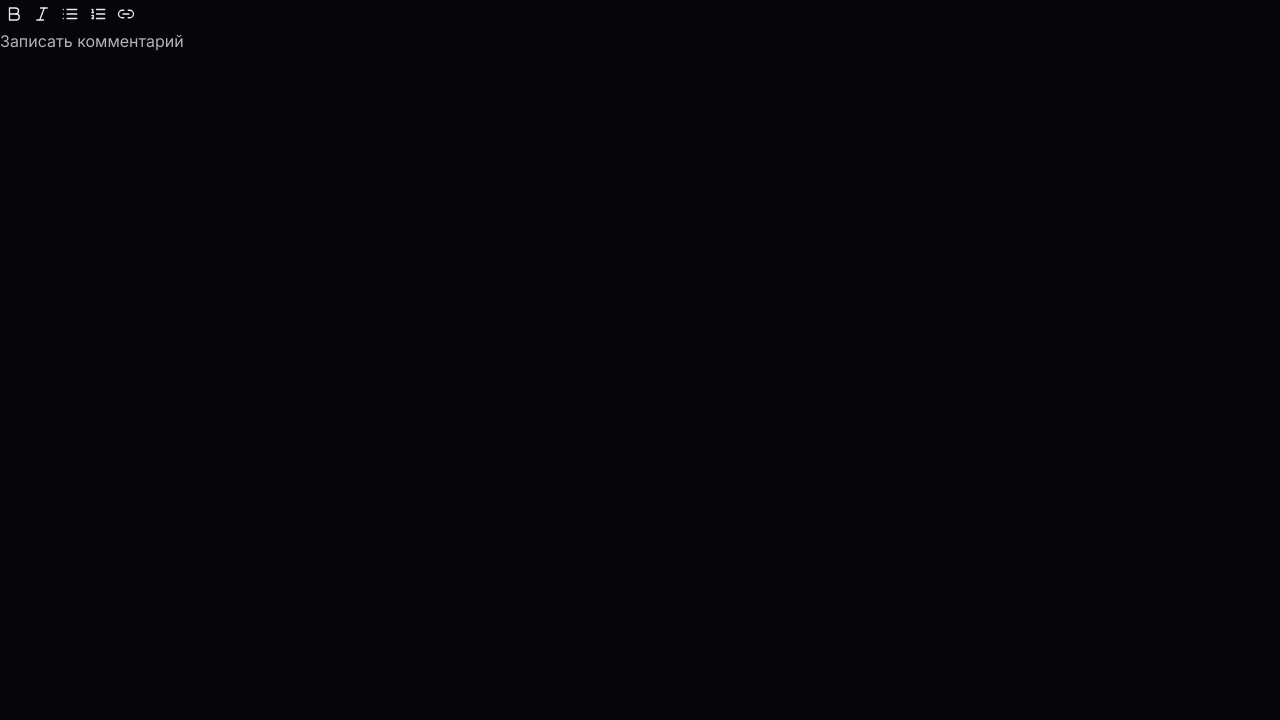
Test: В буфере не адрес — окно НАШЕ, не браузерное › чужой браузер не дал прочитать буфер — тоже наше окно, не тупик
Step 1. Click the button named "Ссылка" → (126, 14), box [112,0,140,28]
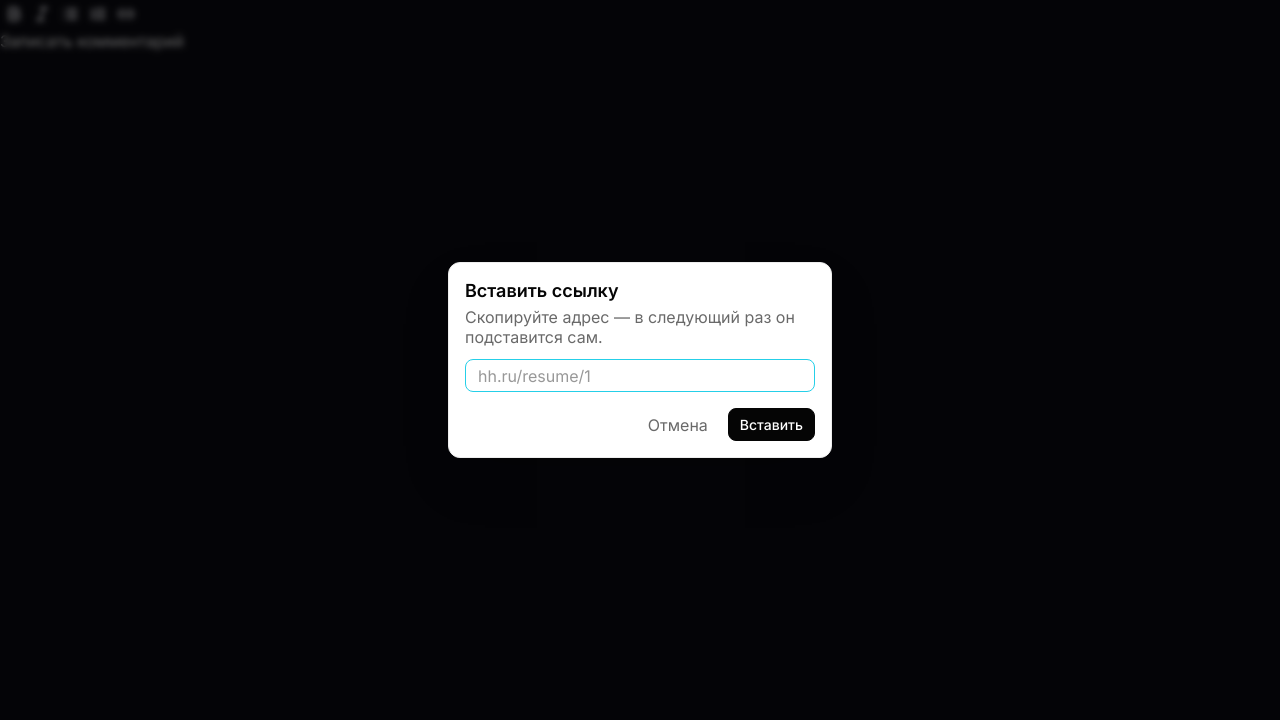
Now the dialog is shown, box [448,262,832,458]
